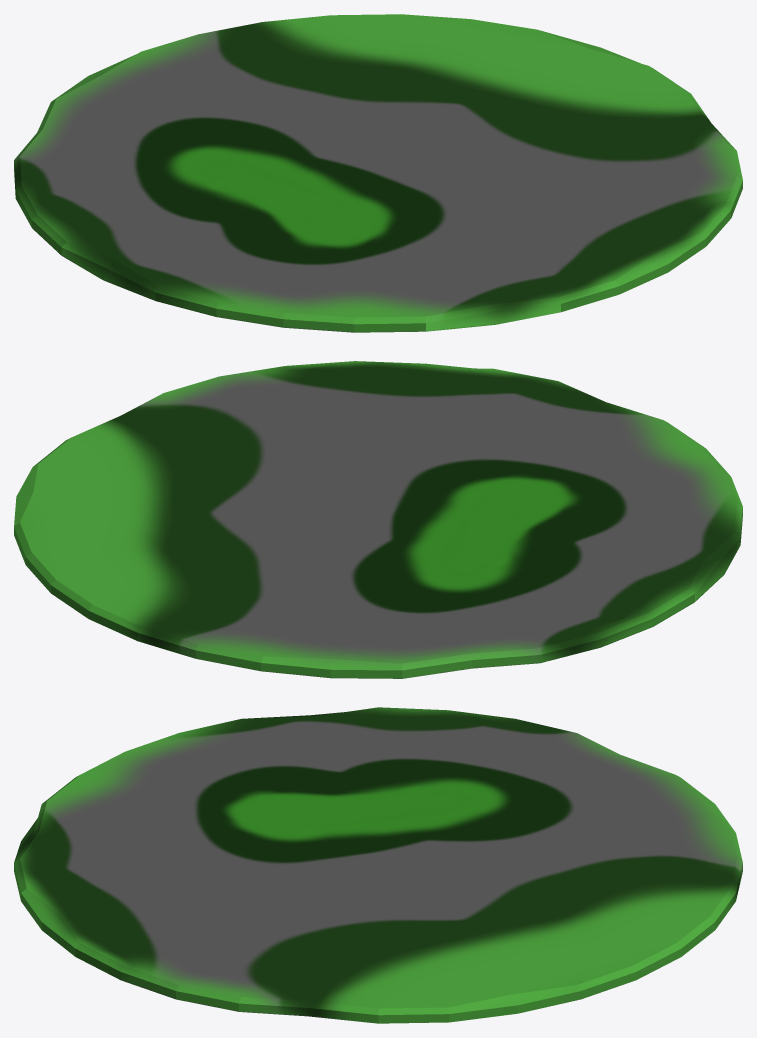
File: JungleBossArena.fbx
3 views of the same model, one above another, from view 1: azimuth 30°, elevation 25°; view 2: azimuth 150°, elevation 25°; view 3: azimuth 270°, elevation 25° (orthographic).
Parts seen in each view (by area): view 1: Circle; view 2: Circle; view 3: Circle.
Boxes of the visible parts, left/top/right/bottom form: Circle: left=14, top=14, right=742, bottom=332; Circle: left=14, top=361, right=742, bottom=678; Circle: left=14, top=707, right=742, bottom=1023.
Bounding box in the file's own units: 2540 × 48.51 × 2555.
